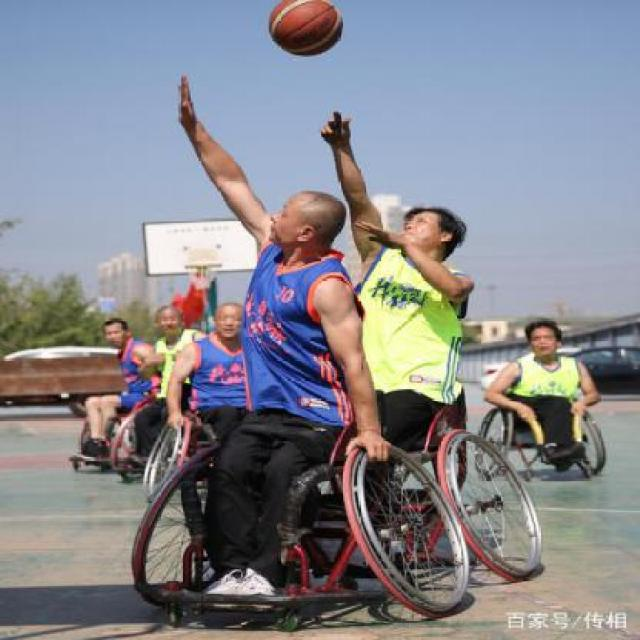peopleWithWheelchair: (133, 85, 469, 628), (278, 108, 548, 580), (150, 302, 284, 488), (475, 312, 613, 483), (69, 316, 186, 482)
